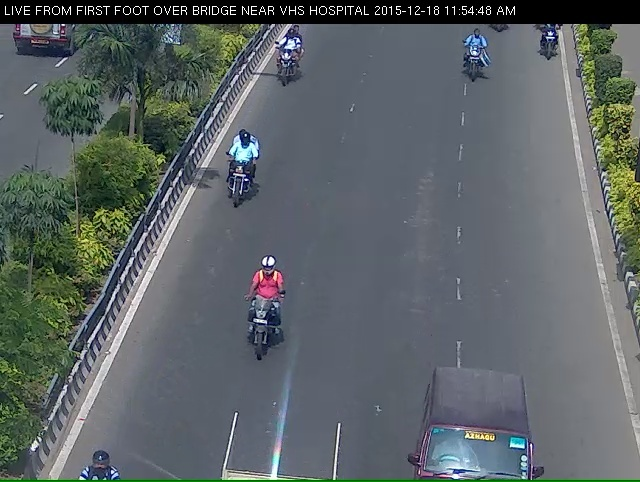Person: (229, 282, 283, 404), (202, 145, 270, 237), (264, 28, 311, 96), (453, 29, 488, 98), (535, 20, 558, 70)
